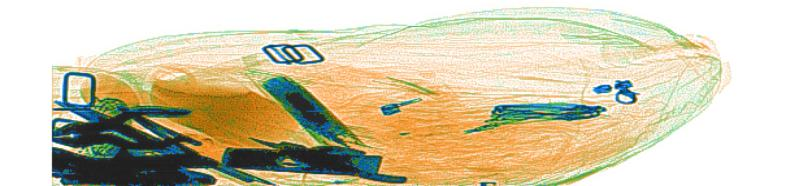battery: (257, 71, 369, 160)
